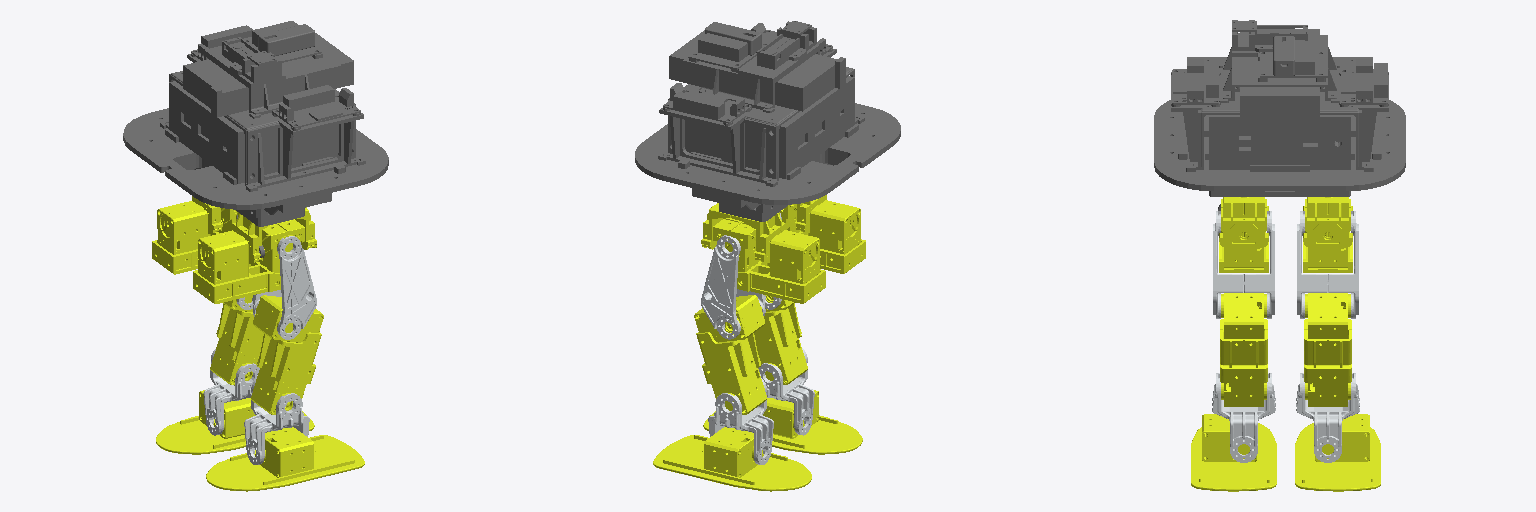
robot.urdf — exhx5_w_b_16:
<?xml version="1.0" encoding="utf-8"?>
<!-- This URDF was automatically created by SolidWorks to URDF Exporter! Originally created by [author] ([email redacted]) 
     Commit Version: 1.5.1-0-g916b5db  Build Version: 1.5.7152.31018
     For more information, please see http://wiki.ros.org/sw_urdf_exporter -->
<robot
  name="exhx5_w_b_16">
  <link
    name="body_link">
    <inertial>
      <origin
        xyz="0.00043545 0.00025536 0.10071"
        rpy="0 0 0" />
      <mass
        value="1.8238" />
      <inertia
        ixx="0.0025905"
        ixy="-5.6852E-06"
        ixz="-1.3106E-05"
        iyy="0.0024595"
        iyz="-1.261E-06"
        izz="0.0046407" />
    </inertial>
    <visual>
      <origin
        xyz="0 0 0"
        rpy="0 0 0" />
      <geometry>
        <mesh
          filename="../meshes/body_link.STL" />
      </geometry>
      <material
        name="">
        <color
          rgba="0.49804 0.49804 0.49804 1" />
      </material>
    </visual>
    <collision>
      <origin
        xyz="0 0 0"
        rpy="0 0 0" />
      <geometry>
        <mesh
          filename="../meshes/body_link.STL" />
      </geometry>
    </collision>
  </link>

  <link
    name="imu_link">
    <inertial>
      <origin
        xyz="-0.008387 1.336E-17 -0.0069463"
        rpy="0 0 0" />
      <mass
        value="0.0062931" />
      <inertia
        ixx="3.2242E-07"
        ixy="3.3527E-22"
        ixz="-6.9193E-08"
        iyy="9.2229E-07"
        iyz="-8.0392E-22"
        izz="1.1018E-06" />
    </inertial>
    <visual>
      <origin
        xyz="0 0 0"
        rpy="0 0 0" />
      <geometry>
        <mesh
          filename="../meshes/imu_link.STL" />
      </geometry>
      <material
        name="">
        <color
          rgba="0.79216 0.81961 0.93333 1" />
      </material>
    </visual>
    <collision>
      <origin
        xyz="0 0 0"
        rpy="0 0 0" />
      <geometry>
        <mesh
          filename="../meshes/imu_link.STL" />
      </geometry>
    </collision>
  </link>
  <joint
    name="imu"
    type="fixed">
    <origin
      xyz="0 0 0.0492"
      rpy="0 0 0" />
    <parent
      link="body_link" />
    <child
      link="imu_link" />
    <axis
      xyz="0 0 0" />
    <limit
      lower="-3.14"
      upper="3.14"
      effort="4"
      velocity="4" />
  </joint>
  <link
    name="l_hip_g_link">
    <inertial>
      <origin
        xyz="-0.0043797 -8.6604E-08 0.011813"
        rpy="0 0 0" />
      <mass
        value="0.061008" />
      <inertia
        ixx="1.167E-05"
        ixy="7.1767E-11"
        ixz="9.1442E-09"
        iyy="2.2342E-05"
        iyz="2.5177E-11"
        izz="2.4892E-05" />
    </inertial>
    <visual>
      <origin
        xyz="0 0 0"
        rpy="0 0 0" />
      <geometry>
        <mesh
          filename="../meshes/l_hip_g_link.STL" />
      </geometry>
      <material
        name="">
        <color
          rgba="0.9451 1 0.18431 1" />
      </material>
    </visual>
    <collision>
      <origin
        xyz="0 0 0"
        rpy="0 0 0" />
      <geometry>
        <mesh
          filename="../meshes/l_hip_g_link.STL" />
      </geometry>
    </collision>
  </link>
  <joint
    name="l_hip_g"
    type="fixed">
    <origin
      xyz="-.001 .040 0"
      rpy="0 0 0" />
    <parent
      link="body_link" />
    <child
      link="l_hip_g_link" />
    <axis
      xyz="0 0 0" />
  </joint>
  <link
    name="l_hip_roll_link">
    <inertial>
      <origin
        xyz="0.013831 0.00033457 0.025453"
        rpy="0 0 0" />
      <mass
        value="0.2969" />
      <inertia
        ixx="7.8136E-05"
        ixy="7.265E-07"
        ixz="-6.9809E-08"
        iyy="9.2183E-05"
        iyz="-5.6881E-11"
        izz="7.1034E-05" />
    </inertial>
    <visual>
      <origin
        xyz="0 0 0"
        rpy="0 0 0" />
      <geometry>
        <mesh
          filename="../meshes/l_hip_roll_link.STL" />
      </geometry>
      <material
        name="">
        <color
          rgba="0.9451 1 0.18431 1" />
      </material>
    </visual>
    <collision>
      <origin
        xyz="0 0 0"
        rpy="0 0 0" />
      <geometry>
        <mesh
          filename="../meshes/l_hip_roll_link.STL" />
      </geometry>
    </collision>
  </link>
  <joint
    name="l_hip_roll"
    type="revolute">
    <origin
      xyz="0 0 0"
      rpy="3.1416 1.5708 0" />
    <parent
      link="l_hip_g_link" />
    <child
      link="l_hip_roll_link" />
    <axis
      xyz="0 0 1" />
    <limit
      lower="-3.14"
      upper="3.14"
      effort="4"
      velocity="4" />
  </joint>
  <link
    name="l_hip_pitch_link">
    <inertial>
      <origin
        xyz="0.041225 -0.007321 -5.0713E-08"
        rpy="0 0 0" />
      <mass
        value="0.051592" />
      <inertia
        ixx="2.7959E-05"
        ixy="2.0752E-06"
        ixz="-8.0934E-11"
        iyy="4.8156E-05"
        iyz="3.6317E-11"
        izz="2.9604E-05" />
    </inertial>
    <visual>
      <origin
        xyz="0 0 0"
        rpy="0 0 0" />
      <geometry>
        <mesh
          filename="../meshes/l_hip_pitch_link.STL" />
      </geometry>
      <material
        name="">
        <color
          rgba="0.89804 0.91765 0.92941 1" />
      </material>
    </visual>
    <collision>
      <origin
        xyz="0 0 0"
        rpy="0 0 0" />
      <geometry>
        <mesh
          filename="../meshes/l_hip_pitch_link.STL" />
      </geometry>
    </collision>
  </link>
  <joint
    name="l_hip_pitch"
    type="revolute">
    <origin
      xyz="0 0 0"
      rpy="1.5708 0 0" />
    <parent
      link="l_hip_roll_link" />
    <child
      link="l_hip_pitch_link" />
    <axis
      xyz="0 0 1" />
    <limit
      lower="-3.14"
      upper="3.14"
      effort="4"
      velocity="4" />
  </joint>
  <link
    name="l_knee_link">
    <inertial>
      <origin
        xyz="0.033756 -0.0084189 -6.6115E-09"
        rpy="0 0 0" />
      <mass
        value="0.28878" />
      <inertia
        ixx="6.6724E-05"
        ixy="7.5004E-07"
        ixz="-8.4578E-07"
        iyy="6.5699E-05"
        iyz="4.1085E-07"
        izz="7.0381E-05" />
    </inertial>
    <visual>
      <origin
        xyz="0 0 0"
        rpy="0 0 0" />
      <geometry>
        <mesh
          filename="../meshes/l_knee_link.STL" />
      </geometry>
      <material
        name="">
        <color
          rgba="0.9451 1 0.18431 1" />
      </material>
    </visual>
    <collision>
      <origin
        xyz="0 0 0"
        rpy="0 0 0" />
      <geometry>
        <mesh
          filename="../meshes/l_knee_link.STL" />
      </geometry>
    </collision>
  </link>
  <joint
    name="l_knee"
    type="revolute">
    <origin
      xyz="0.075954 0 0"
      rpy="0 0 0" />
    <parent
      link="l_hip_pitch_link" />
    <child
      link="l_knee_link" />
    <axis
      xyz="0 0 1" />
    <limit
      lower="-3.14"
      upper="3.14"
      effort="4"
      velocity="4" />
  </joint>
  <link
    name="l_ank_pitch_link">
    <inertial>
      <origin
        xyz="0.022786 -7.3909E-09 -7.1981E-06"
        rpy="0 0 0" />
      <mass
        value="0.044772" />
      <inertia
        ixx="1.777E-05"
        ixy="8.555E-14"
        ixz="-3.3713E-09"
        iyy="1.7119E-05"
        iyz="1.7593E-11"
        izz="1.8661E-05" />
    </inertial>
    <visual>
      <origin
        xyz="0 0 0"
        rpy="0 0 0" />
      <geometry>
        <mesh
          filename="../meshes/l_ank_pitch_link.STL" />
      </geometry>
      <material
        name="">
        <color
          rgba="0.89804 0.91765 0.92941 1" />
      </material>
    </visual>
    <collision>
      <origin
        xyz="0 0 0"
        rpy="0 0 0" />
      <geometry>
        <mesh
          filename="../meshes/l_ank_pitch_link.STL" />
      </geometry>
    </collision>
  </link>
  <joint
    name="l_ank_pitch"
    type="revolute">
    <origin
      xyz="0.074602 0 0"
      rpy="3.1416 0 0" />
    <parent
      link="l_knee_link" />
    <child
      link="l_ank_pitch_link" />
    <axis
      xyz="0 0 1" />
    <limit
      lower="-3.14"
      upper="3.14"
      effort="4"
      velocity="4" />
  </joint>
  <link
    name="l_ank_roll_link">
    <inertial>
      <origin
        xyz="0.0047069 0.010728 0.0015299"
        rpy="0 0 0" />
      <mass
        value="0.16774" />
      <inertia
        ixx="0.00012039"
        ixy="-3.7428E-09"
        ixz="4.4069E-08"
        iyy="8.7735E-05"
        iyz="7.0469E-07"
        izz="4.7866E-05" />
    </inertial>
    <visual>
      <origin
        xyz="0 0 0"
        rpy="0 0 0" />
      <geometry>
        <mesh
          filename="../meshes/l_ank_roll_link.STL" />
      </geometry>
      <material
        name="">
        <color
          rgba="0.9451 1 0.18431 1" />
      </material>
    </visual>
    <collision>
      <origin
        xyz="0 0 0"
        rpy="0 0 0" />
      <geometry>
        <mesh
          filename="../meshes/l_ank_roll_link.STL" />
      </geometry>
    </collision>
  </link>
  <joint
    name="l_ank_roll"
    type="revolute">
    <origin
      xyz="0.0465 0 0"
      rpy="-1.5708 0 0" />
    <parent
      link="l_ank_pitch_link" />
    <child
      link="l_ank_roll_link" />
    <axis
      xyz="0 0 1" />
    <limit
      lower="-3.14"
      upper="3.14"
      effort="4"
      velocity="4" />
  </joint>
  <link
    name="r_hip_g_link">
    <inertial>
      <origin
        xyz="-0.0043797 -8.6604E-08 0.011813"
        rpy="0 0 0" />
      <mass
        value="0.061008" />
      <inertia
        ixx="1.167E-05"
        ixy="7.1767E-11"
        ixz="9.1442E-09"
        iyy="2.2342E-05"
        iyz="2.5177E-11"
        izz="2.4892E-05" />
    </inertial>
    <visual>
      <origin
        xyz="0 0 0"
        rpy="0 0 0" />
      <geometry>
        <mesh
          filename="../meshes/r_hip_g_link.STL" />
      </geometry>
      <material
        name="">
        <color
          rgba="0.9451 1 0.18431 1" />
      </material>
    </visual>
    <collision>
      <origin
        xyz="0 0 0"
        rpy="0 0 0" />
      <geometry>
        <mesh
          filename="../meshes/r_hip_g_link.STL" />
      </geometry>
    </collision>
  </link>
  <joint
    name="r_hip_g"
    type="fixed">
    <origin
      xyz="-.001 -.030 0"
      rpy="0 0 0" />
    <parent
      link="body_link" />
    <child
      link="r_hip_g_link" />
    <axis
      xyz="0 0 0" />
  </joint>
  <link
    name="r_hip_roll_link">
    <inertial>
      <origin
        xyz="0.013831 0.00033457 0.025453"
        rpy="0 0 0" />
      <mass
        value="0.2969" />
      <inertia
        ixx="7.8136E-05"
        ixy="7.265E-07"
        ixz="-6.9809E-08"
        iyy="9.2183E-05"
        iyz="-5.6881E-11"
        izz="7.1034E-05" />
    </inertial>
    <visual>
      <origin
        xyz="0 0 0"
        rpy="0 0 0" />
      <geometry>
        <mesh
          filename="../meshes/r_hip_roll_link.STL" />
      </geometry>
      <material
        name="">
        <color
          rgba="0.9451 1 0.18431 1" />
      </material>
    </visual>
    <collision>
      <origin
        xyz="0 0 0"
        rpy="0 0 0" />
      <geometry>
        <mesh
          filename="../meshes/r_hip_roll_link.STL" />
      </geometry>
    </collision>
  </link>
  <joint
    name="r_hip_roll"
    type="revolute">
    <origin
      xyz="0 0 0"
      rpy="3.1416 1.5708 0" />
    <parent
      link="r_hip_g_link" />
    <child
      link="r_hip_roll_link" />
    <axis
      xyz="0 0 1" />
    <limit
      lower="-3.14"
      upper="3.14"
      effort="4"
      velocity="4" />
  </joint>
  <link
    name="r_hip_pitch_link">
    <inertial>
      <origin
        xyz="0.041225 0.007321 5.0713E-08"
        rpy="0 0 0" />
      <mass
        value="0.051592" />
      <inertia
        ixx="2.7959E-05"
        ixy="-2.0752E-06"
        ixz="8.0934E-11"
        iyy="4.8156E-05"
        iyz="3.6317E-11"
        izz="2.9604E-05" />
    </inertial>
    <visual>
      <origin
        xyz="0 0 0"
        rpy="0 0 0" />
      <geometry>
        <mesh
          filename="../meshes/r_hip_pitch_link.STL" />
      </geometry>
      <material
        name="">
        <color
          rgba="0.89804 0.91765 0.92941 1" />
      </material>
    </visual>
    <collision>
      <origin
        xyz="0 0 0"
        rpy="0 0 0" />
      <geometry>
        <mesh
          filename="../meshes/r_hip_pitch_link.STL" />
      </geometry>
    </collision>
  </link>
  <joint
    name="r_hip_pitch"
    type="revolute">
    <origin
      xyz="0 0 0"
      rpy="-1.5708 0 0" />
    <parent
      link="r_hip_roll_link" />
    <child
      link="r_hip_pitch_link" />
    <axis
      xyz="0 0 1" />
    <limit
      lower="-3.14"
      upper="3.14"
      effort="4"
      velocity="4" />
  </joint>
  <link
    name="r_knee_link">
    <inertial>
      <origin
        xyz="0.033757 0.0084176 6.6115E-09"
        rpy="0 0 0" />
      <mass
        value="0.28878" />
      <inertia
        ixx="6.6724E-05"
        ixy="-7.5008E-07"
        ixz="8.458E-07"
        iyy="6.5699E-05"
        iyz="4.1081E-07"
        izz="7.0381E-05" />
    </inertial>
    <visual>
      <origin
        xyz="0 0 0"
        rpy="0 0 0" />
      <geometry>
        <mesh
          filename="../meshes/r_knee_link.STL" />
      </geometry>
      <material
        name="">
        <color
          rgba="0.9451 1 0.18431 1" />
      </material>
    </visual>
    <collision>
      <origin
        xyz="0 0 0"
        rpy="0 0 0" />
      <geometry>
        <mesh
          filename="../meshes/r_knee_link.STL" />
      </geometry>
    </collision>
  </link>
  <joint
    name="r_knee"
    type="revolute">
    <origin
      xyz="0.075954 0 0"
      rpy="0 0 0" />
    <parent
      link="r_hip_pitch_link" />
    <child
      link="r_knee_link" />
    <axis
      xyz="0 0 1" />
    <limit
      lower="-3.14"
      upper="3.14"
      effort="4"
      velocity="4" />
  </joint>
  <link
    name="r_ank_pitch_link">
    <inertial>
      <origin
        xyz="0.025786 -7.3887E-09 -7.1981E-06"
        rpy="0 0 0" />
      <mass
        value="0.044772" />
      <inertia
        ixx="1.777E-05"
        ixy="8.5434E-14"
        ixz="-3.3713E-09"
        iyy="1.7119E-05"
        iyz="1.7592E-11"
        izz="1.8661E-05" />
    </inertial>
    <visual>
      <origin
        xyz="0 0 0"
        rpy="0 0 0" />
      <geometry>
        <mesh
          filename="../meshes/r_ank_pitch_link.STL" />
      </geometry>
      <material
        name="">
        <color
          rgba="0.89804 0.91765 0.92941 1" />
      </material>
    </visual>
    <collision>
      <origin
        xyz="0 0 0"
        rpy="0 0 0" />
      <geometry>
        <mesh
          filename="../meshes/r_ank_pitch_link.STL" />
      </geometry>
    </collision>
  </link>
  <joint
    name="r_ank_pitch"
    type="revolute">
    <origin
      xyz="0.071602 0 0"
      rpy="3.1416 0 0" />
    <parent
      link="r_knee_link" />
    <child
      link="r_ank_pitch_link" />
    <axis
      xyz="0 0 1" />
    <limit
      lower="-3.14"
      upper="3.14"
      effort="4"
      velocity="4" />
  </joint>
  <link
    name="r_ank_roll_link">
    <inertial>
      <origin
        xyz="0.0077069 -0.010728 0.0015299"
        rpy="0 0 0" />
      <mass
        value="0.16774" />
      <inertia
        ixx="0.00012039"
        ixy="3.743E-09"
        ixz="4.407E-08"
        iyy="8.7735E-05"
        iyz="-7.0467E-07"
        izz="4.7866E-05" />
    </inertial>
    <visual>
      <origin
        xyz="0 0 0"
        rpy="0 0 0" />
      <geometry>
        <mesh
          filename="../meshes/r_ank_roll_link.STL" />
      </geometry>
      <material
        name="">
        <color
          rgba="0.9451 1 0.18431 1" />
      </material>
    </visual>
    <collision>
      <origin
        xyz="0 0 0"
        rpy="0 0 0" />
      <geometry>
        <mesh
          filename="../meshes/r_ank_roll_link.STL" />
      </geometry>
    </collision>
  </link>
  <joint
    name="r_ank_roll"
    type="revolute">
    <origin
      xyz="0.0465 0 0"
      rpy="1.5708 0 0" />
    <parent
      link="r_ank_pitch_link" />
    <child
      link="r_ank_roll_link" />
    <axis
      xyz="0 0 1" />
    <limit
      lower="-3.14"
      upper="3.14"
      effort="4"
      velocity="4" />
  </joint>
  <transmission name="r_hip_roll_tran">
    <type>transmission_interface/SimpleTransmission</type>
    <joint name="r_hip_roll">
      <hardwareInterface>hardware_interface/EffortJointInterface</hardwareInterface>
    </joint>
    <actuator name="r_hip_roll_motor">
      <hardwareInterface>hardware_interface/EffortJointInterface</hardwareInterface>
      <mechanicalReduction>1</mechanicalReduction>
    </actuator>
  </transmission>
  <transmission name="r_hip_pitch_tran">
    <type>transmission_interface/SimpleTransmission</type>
    <joint name="r_hip_pitch">
      <hardwareInterface>hardware_interface/EffortJointInterface</hardwareInterface>
    </joint>
    <actuator name="r_hip_pitch_motor">
      <hardwareInterface>hardware_interface/EffortJointInterface</hardwareInterface>
      <mechanicalReduction>1</mechanicalReduction>
    </actuator>
  </transmission>
  <transmission name="r_knee_tran">
    <type>transmission_interface/SimpleTransmission</type>
    <joint name="r_knee">
      <hardwareInterface>hardware_interface/EffortJointInterface</hardwareInterface>
    </joint>
    <actuator name="r_knee_motor">
      <hardwareInterface>hardware_interface/EffortJointInterface</hardwareInterface>
      <mechanicalReduction>1</mechanicalReduction>
    </actuator>
  </transmission>
  <transmission name="r_ank_pitch_tran">
    <type>transmission_interface/SimpleTransmission</type>
    <joint name="r_ank_pitch">
      <hardwareInterface>hardware_interface/EffortJointInterface</hardwareInterface>
    </joint>
    <actuator name="r_ank_pitch_motor">
      <hardwareInterface>hardware_interface/EffortJointInterface</hardwareInterface>
      <mechanicalReduction>1</mechanicalReduction>
    </actuator>
  </transmission>
  <transmission name="r_ank_roll_tran">
    <type>transmission_interface/SimpleTransmission</type>
    <joint name="r_ank_roll">
      <hardwareInterface>hardware_interface/EffortJointInterface</hardwareInterface>
    </joint>
    <actuator name="r_ank_roll_motor">
      <hardwareInterface>hardware_interface/EffortJointInterface</hardwareInterface>
      <mechanicalReduction>1</mechanicalReduction>
    </actuator>
  </transmission>
  <transmission name="l_hip_roll_tran">
    <type>transmission_interface/SimpleTransmission</type>
    <joint name="l_hip_roll">
      <hardwareInterface>hardware_interface/EffortJointInterface</hardwareInterface>
    </joint>
    <actuator name="l_hip_roll_motor">
      <hardwareInterface>hardware_interface/EffortJointInterface</hardwareInterface>
      <mechanicalReduction>1</mechanicalReduction>
    </actuator>
  </transmission>
  <transmission name="l_hip_pitch_tran">
    <type>transmission_interface/SimpleTransmission</type>
    <joint name="l_hip_pitch">
      <hardwareInterface>hardware_interface/EffortJointInterface</hardwareInterface>
    </joint>
    <actuator name="l_hip_pitch_motor">
      <hardwareInterface>hardware_interface/EffortJointInterface</hardwareInterface>
      <mechanicalReduction>1</mechanicalReduction>
    </actuator>
  </transmission>
  <transmission name="l_knee_tran">
    <type>transmission_interface/SimpleTransmission</type>
    <joint name="l_knee">
      <hardwareInterface>hardware_interface/EffortJointInterface</hardwareInterface>
    </joint>
    <actuator name="l_knee_motor">
      <hardwareInterface>hardware_interface/EffortJointInterface</hardwareInterface>
      <mechanicalReduction>1</mechanicalReduction>
    </actuator>
  </transmission>
  <transmission name="l_ank_pitch_tran">
    <type>transmission_interface/SimpleTransmission</type>
    <joint name="l_ank_pitch">
      <hardwareInterface>hardware_interface/EffortJointInterface</hardwareInterface>
    </joint>
    <actuator name="l_ank_pitch_motor">
      <hardwareInterface>hardware_interface/EffortJointInterface</hardwareInterface>
      <mechanicalReduction>1</mechanicalReduction>
    </actuator>
  </transmission>
  <transmission name="l_ank_roll_tran">
    <type>transmission_interface/SimpleTransmission</type>
    <joint name="l_ank_roll">
      <hardwareInterface>hardware_interface/EffortJointInterface</hardwareInterface>
    </joint>
    <actuator name="l_ank_roll_motor">
      <hardwareInterface>hardware_interface/EffortJointInterface</hardwareInterface>
      <mechanicalReduction>1</mechanicalReduction>
    </actuator>
  </transmission>
</robot>

--- Render facts (derived) ---
3 views of the same robot in one strip: view 1: azimuth 30°, elevation 25°; view 2: azimuth 150°, elevation 25°; view 3: azimuth 270°, elevation 25° (orthographic).
Robot: exhx5_w_b_16 — 14 links, 13 joints (10 revolute, 3 fixed); root link body_link; default pose: all joints at 0.
Visible links, largest first — view 1: body_link, r_ank_roll_link, r_hip_roll_link, r_knee_link, l_hip_roll_link, l_ank_roll_link, r_hip_pitch_link, l_knee_link, r_ank_pitch_link, l_ank_pitch_link, r_hip_g_link; view 2: body_link, l_ank_roll_link, l_hip_roll_link, l_knee_link, r_hip_roll_link, r_ank_roll_link, l_hip_pitch_link, r_knee_link, l_ank_pitch_link, r_ank_pitch_link, l_hip_g_link; view 3: body_link, l_knee_link, r_knee_link, r_ank_roll_link, l_ank_roll_link, l_hip_pitch_link, r_hip_pitch_link, l_ank_pitch_link, r_ank_pitch_link, l_hip_g_link, r_hip_g_link, l_hip_roll_link (+1 smaller).
Link boxes in pixels (<box>): body_link: <box>123,21,388,257</box>; r_ank_roll_link: <box>206,427,364,491</box>; r_hip_roll_link: <box>193,219,304,303</box>; r_knee_link: <box>251,295,323,414</box>; l_hip_roll_link: <box>152,201,237,274</box>; l_ank_roll_link: <box>156,390,314,454</box>; r_hip_pitch_link: <box>253,236,316,339</box>; l_knee_link: <box>210,295,263,385</box>; r_ank_pitch_link: <box>244,378,309,464</box>; l_ank_pitch_link: <box>203,349,259,435</box>; r_hip_g_link: <box>232,207,316,263</box>; body_link: <box>635,21,900,221</box>; l_ank_roll_link: <box>653,427,811,491</box>; l_hip_roll_link: <box>713,218,825,303</box>; l_knee_link: <box>694,295,766,414</box>; r_hip_roll_link: <box>780,200,865,273</box>; r_ank_roll_link: <box>703,390,862,454</box>; l_hip_pitch_link: <box>701,235,765,339</box>; r_knee_link: <box>754,295,807,384</box>; l_ank_pitch_link: <box>708,378,773,464</box>; r_ank_pitch_link: <box>758,348,814,435</box>; l_hip_g_link: <box>701,203,785,262</box>; body_link: <box>1154,20,1405,210</box>; l_knee_link: <box>1304,293,1351,406</box>; r_knee_link: <box>1220,293,1267,406</box>; r_ank_roll_link: <box>1191,414,1276,491</box>; l_ank_roll_link: <box>1295,414,1380,491</box>; l_hip_pitch_link: <box>1297,211,1358,318</box>; r_hip_pitch_link: <box>1213,211,1274,318</box>; l_ank_pitch_link: <box>1296,373,1359,462</box>; r_ank_pitch_link: <box>1212,373,1275,462</box>; l_hip_g_link: <box>1303,197,1352,246</box>; r_hip_g_link: <box>1219,197,1268,246</box>; l_hip_roll_link: <box>1303,199,1352,272</box>.
Size in the robot's own frame: 0.185 by 0.21 by 0.3893 metres.
Meshes: 14 distinct files referenced, 14 mesh visuals loaded (14 binary STL).